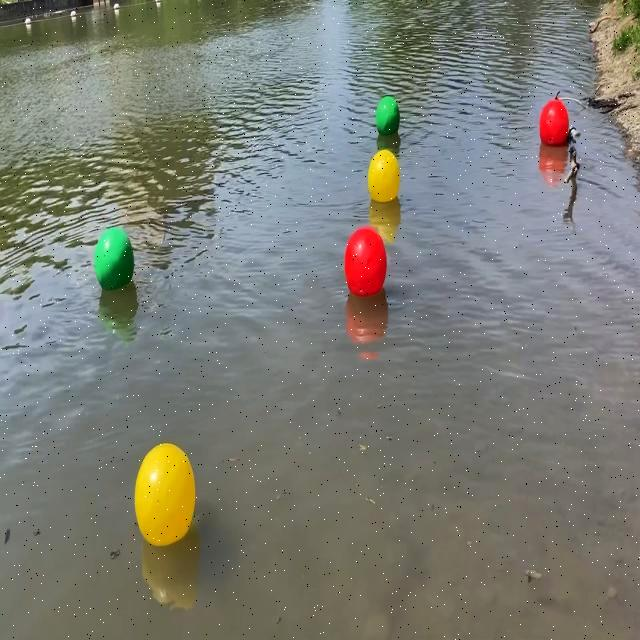buoy: (136, 442, 197, 550), (343, 223, 387, 299), (95, 225, 137, 294), (367, 148, 400, 204), (538, 98, 571, 150), (375, 96, 401, 138)
